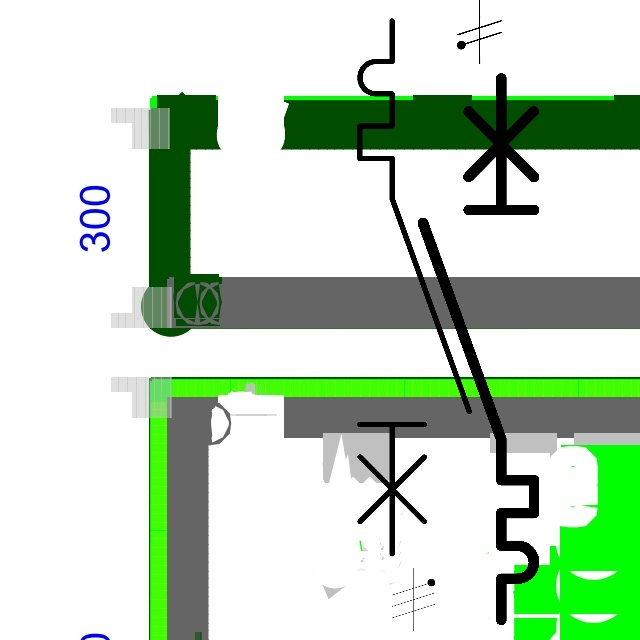interruptor_termomagnetico: (409, 64, 548, 634), (346, 7, 483, 567)
